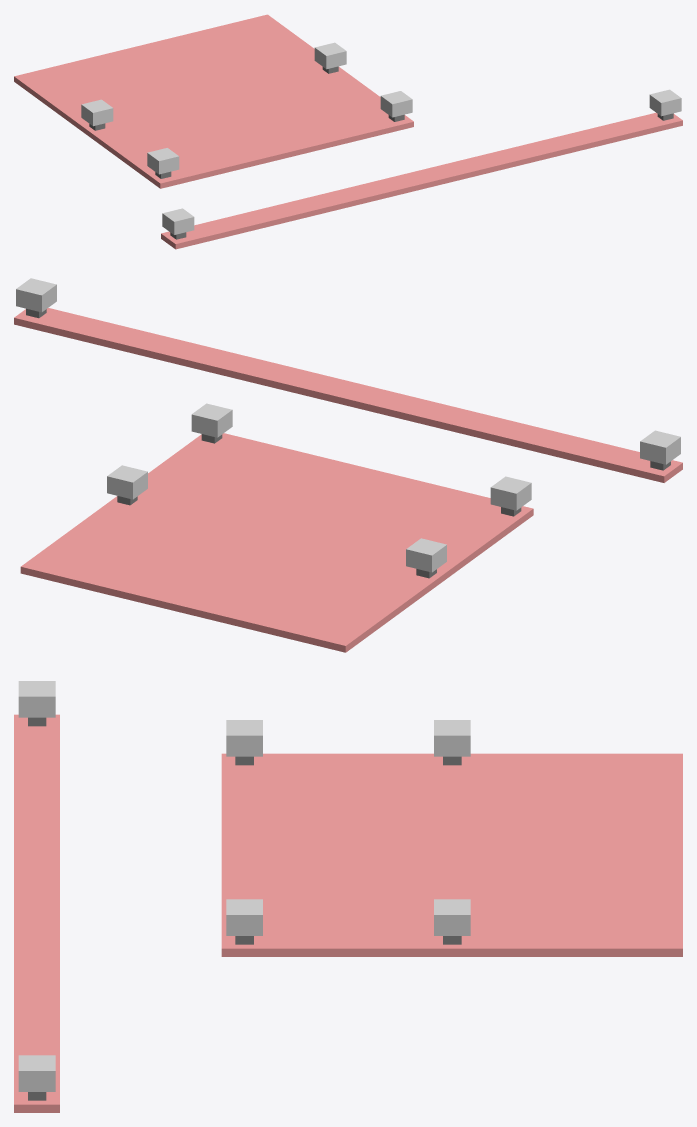
The model's file is board.glb.
3 views of the same model, one above another, from view 1: azimuth 30°, elevation 25°; view 2: azimuth 150°, elevation 25°; view 3: azimuth 270°, elevation 25° (orthographic). The views are drawn at different scales.
Parts seen in each view (by area): view 1: Copper_Net0_Contour1, Copper_Net0_Contour0, Copper_Net3_Contour0, Copper_Net1_Contour0, Copper_Net6_Contour0, Copper_Net2_Contour0, Copper_Net5_Contour0, Copper_Net4_Contour0; view 2: Copper_Net0_Contour1, Copper_Net0_Contour0, Copper_Net4_Contour0, Copper_Net3_Contour0, Copper_Net6_Contour0, Copper_Net5_Contour0, Copper_Net1_Contour0, Copper_Net2_Contour0; view 3: Copper_Net0_Contour1, Copper_Net0_Contour0, Copper_Net6_Contour0, Copper_Net5_Contour0, Copper_Net1_Contour0, Copper_Net3_Contour0, Copper_Net4_Contour0, Copper_Net2_Contour0.
Part boxes in pixels (left/top/right/bottom): Copper_Net0_Contour1: left=14, top=14, right=413, bottom=188; Copper_Net0_Contour0: left=161, top=112, right=682, bottom=249; Copper_Net3_Contour0: left=147, top=148, right=179, bottom=174; Copper_Net1_Contour0: left=81, top=99, right=113, bottom=126; Copper_Net6_Contour0: left=649, top=89, right=681, bottom=116; Copper_Net2_Contour0: left=314, top=42, right=346, bottom=69; Copper_Net5_Contour0: left=162, top=208, right=194, bottom=234; Copper_Net4_Contour0: left=380, top=91, right=412, bottom=117; Copper_Net0_Contour1: left=20, top=433, right=533, bottom=652; Copper_Net0_Contour0: left=14, top=308, right=682, bottom=482; Copper_Net4_Contour0: left=191, top=403, right=232, bottom=437; Copper_Net3_Contour0: left=490, top=476, right=531, bottom=510; Copper_Net6_Contour0: left=16, top=278, right=56, bottom=312; Copper_Net5_Contour0: left=640, top=430, right=680, bottom=464; Copper_Net1_Contour0: left=406, top=538, right=446, bottom=572; Copper_Net2_Contour0: left=107, top=465, right=147, bottom=499; Copper_Net0_Contour1: left=221, top=753, right=682, bottom=956; Copper_Net0_Contour0: left=14, top=714, right=59, bottom=1112; Copper_Net6_Contour0: left=18, top=1055, right=55, bottom=1091; Copper_Net5_Contour0: left=18, top=681, right=55, bottom=717; Copper_Net1_Contour0: left=434, top=720, right=470, bottom=756; Copper_Net3_Contour0: left=226, top=720, right=262, bottom=756; Copper_Net4_Contour0: left=226, top=899, right=262, bottom=935; Copper_Net2_Contour0: left=434, top=899, right=470, bottom=935.
Bounding box in the file's own units: 2e-05 × 1e-06 × 1.45e-05.
